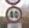limite 40: (4, 4, 22, 23)
